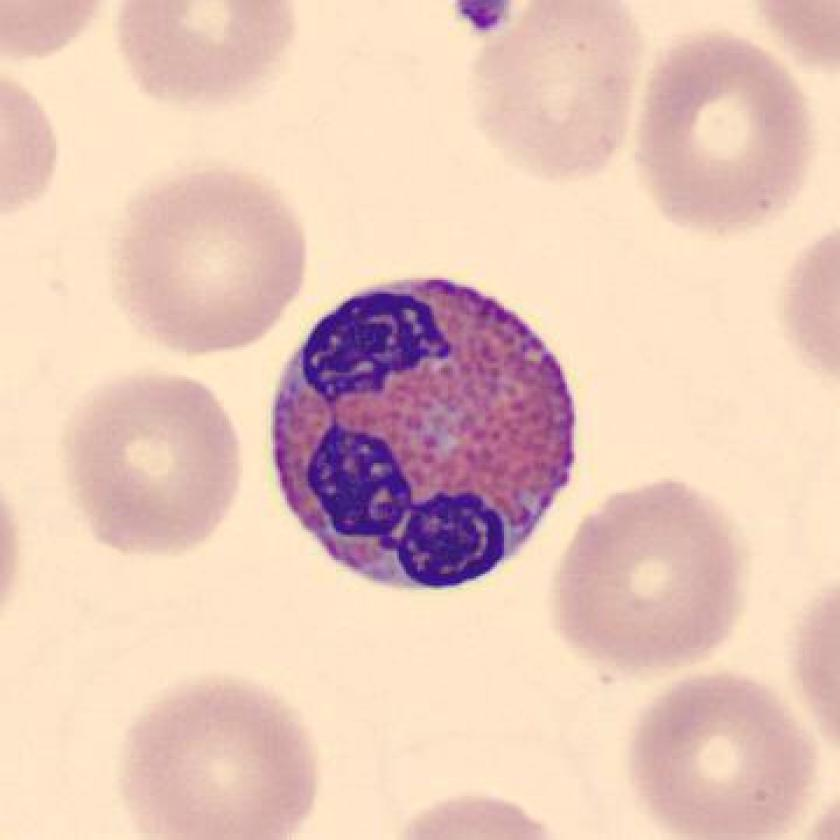eosinophil: (251, 260, 587, 603)
